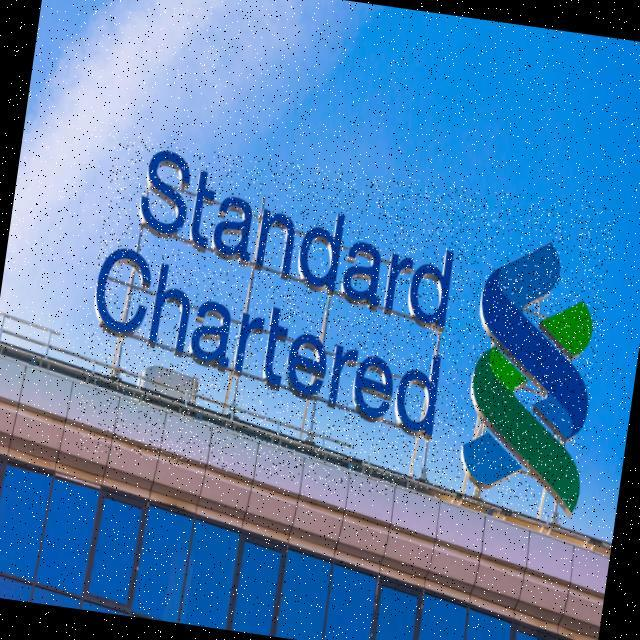Standard Chartered: (71, 138, 619, 522)
